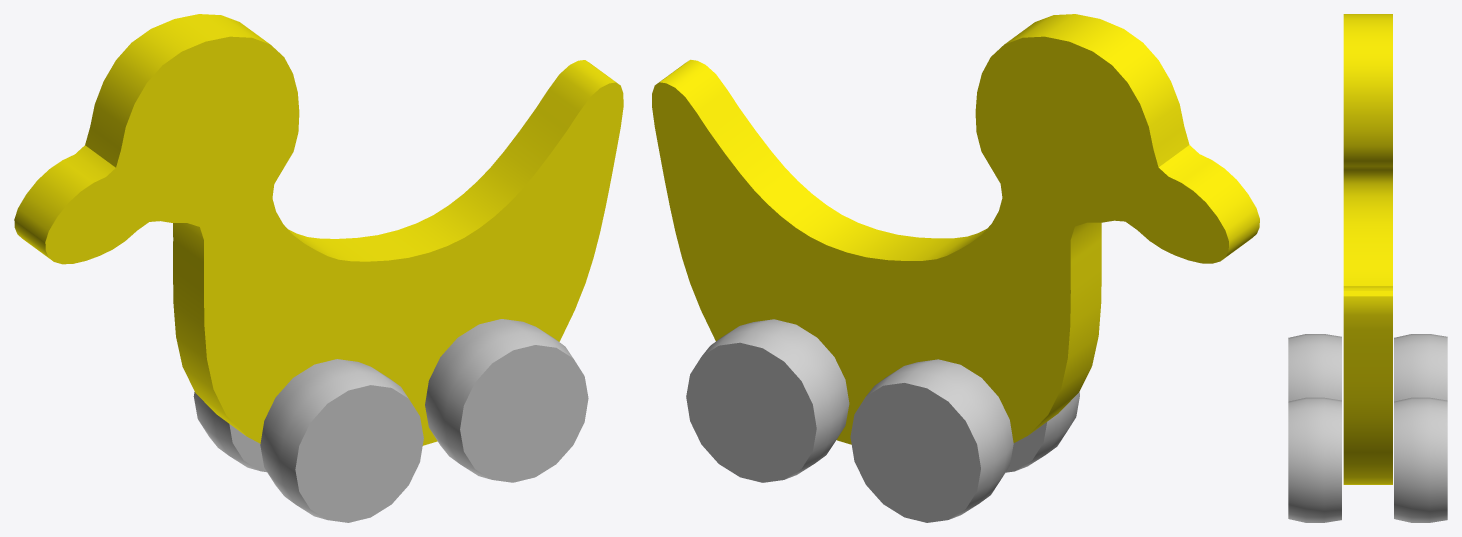
File: Toy 2.FBX
3 renders of one model, left to right at view 1: azimuth 30°, elevation 25°; view 2: azimuth 150°, elevation 25°; view 3: azimuth 270°, elevation 25°, orthographic. The views are drawn at different scales.
Visible parts, largest first — view 1: toy 2; view 2: toy 2; view 3: toy 2.
Part boxes in pixels (<box>): toy 2: <box>14,14,623,522</box>; toy 2: <box>652,14,1259,522</box>; toy 2: <box>1288,14,1447,522</box>.
Size of the model in its own units: 20.58 by 16.56 by 6.19.
